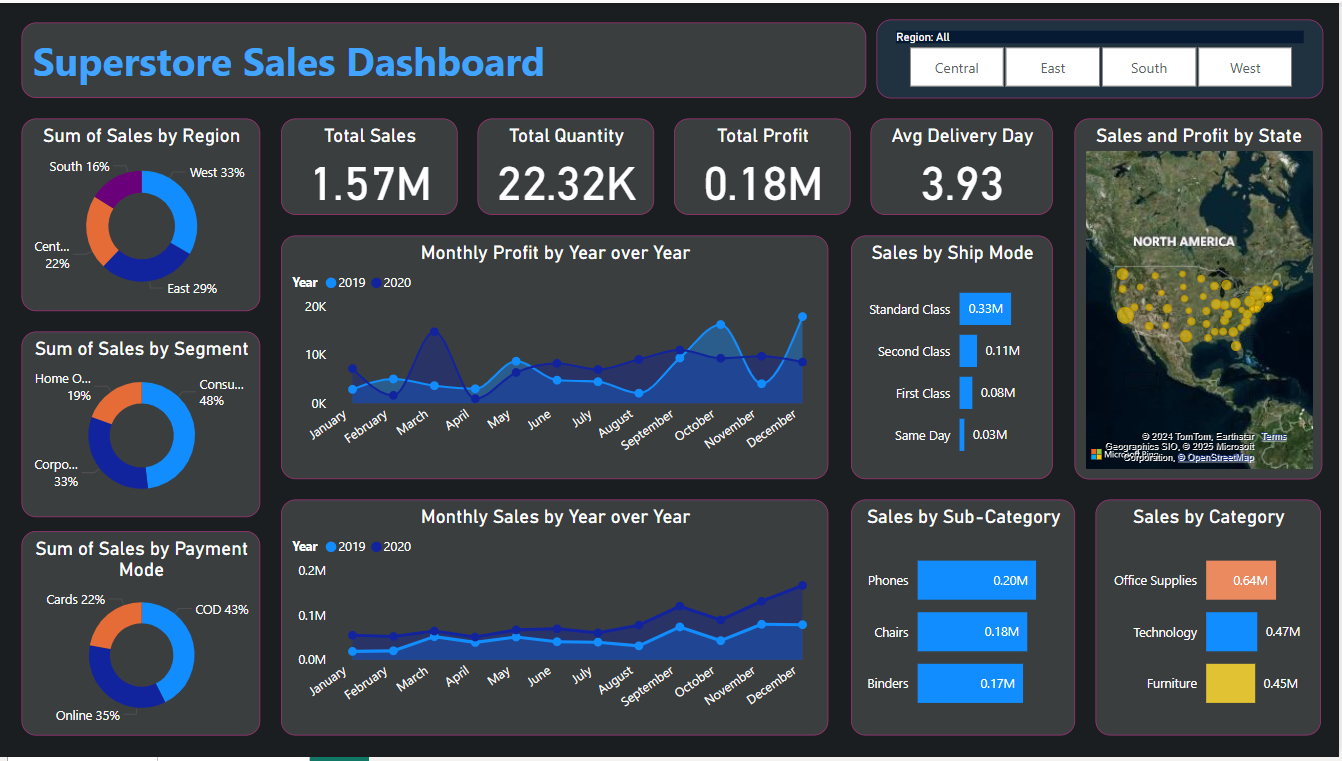

The dashboard page shown, as its layout file describes it:
{"tool":"powerbi","page":{"name":"Dashboard ","canvas":[1280,720],"ordinal":0},"visuals":[{"type":"clusteredBarChart","title":"Sales by Category","fields":{"Category":["Sheet1.Category"],"Y":["Sum(Sheet1.Sales)"]},"box":[1047.4,474.8,215.4,225.4],"z":0},{"type":"clusteredBarChart","title":"Sales by Sub-Category","fields":{"Category":["Sheet1.Sub-Category"],"Y":["Sum(Sheet1.Sales)"]},"box":[813.5,474.8,214,225.4],"z":1000},{"type":"clusteredBarChart","title":"Sales by Ship Mode","fields":{"Category":["Sheet1.Ship Mode"],"Y":["Sum(Sheet1.Sales)"]},"box":[813.5,222.5,192.8,232.4],"z":2000},{"type":"areaChart","title":"Monthly Sales by Year over Year","fields":{"Y":["Sum(Sheet1.Sales)"],"Category":["Sheet1.Order Date.Variation.Date Hierarchy.Month","Sheet1.Order Date.Variation.Date Hierarchy.Day"],"Series":["Sheet1.Order Date.Variation.Date Hierarchy.Year"]},"box":[269.3,474.8,523,225.4],"z":3000},{"type":"areaChart","title":"Monthly Profit by Year over Year","fields":{"Category":["Sheet1.Order Date.Variation.Date Hierarchy.Month","Sheet1.Order Date.Variation.Date Hierarchy.Day"],"Series":["Sheet1.Order Date.Variation.Date Hierarchy.Year"],"Y":["Sum(Sheet1.Profit)"]},"box":[269.3,222.5,523,232.4],"z":4000},{"type":"map","title":"Sales and Profit by State","fields":{"Category":["Sheet1.State"],"Size":["Sum(Sheet1.Sales)"]},"box":[1027.6,110.6,236.7,344.4],"z":5000},{"type":"donutChart","fields":{"Category":["Sheet1.Payment Mode"],"Y":["Sum(Sheet1.Sales)"]},"box":[21.3,504.6,228.2,195.6],"z":6000},{"type":"donutChart","fields":{"Category":["Sheet1.Segment"],"Y":["Sum(Sheet1.Sales)"]},"box":[21.3,313.2,228.2,177.2],"z":7000},{"type":"slicer","fields":{"Values":["Sheet1.Region"]},"box":[837.6,15.6,426.6,75.1],"z":8000},{"type":"textbox","box":[21.3,18.4,806.5,72.3],"z":9000},{"type":"donutChart","fields":{"Y":["Sum(Sheet1.Sales)"],"Category":["Sheet1.Region"]},"box":[21.3,110.6,228.2,184.3],"z":10000},{"type":"card","title":"Total Sales","fields":{"Values":["Sum(Sheet1.Sales)"]},"box":[269.3,110.6,168.7,92.1],"z":11000},{"type":"card","title":"Total Profit","fields":{"Values":["Sum(Sheet1.Profit)"]},"box":[644.9,110.6,168.7,92.1],"z":12000},{"type":"card","title":"Total Quantity ","fields":{"Values":["Sum(Sheet1.Quantity)"]},"box":[456.4,110.6,168.7,92.1],"z":13000},{"type":"card","title":"Avg Delivery Day","fields":{"Values":["Avg(Sheet1.AvgDeliveryDays)"]},"box":[832,110.6,174.3,92.1],"z":14000}]}

Visuals, with their boxes in screenshot pixels (x1, y1, x2, y2), scaled from the page's 1280x720 canvas onto the 1342x761 screenshot:
"Sales by Category" clusteredBarChart: Rect(1098, 502, 1324, 740)
"Sales by Sub-Category" clusteredBarChart: Rect(853, 502, 1077, 740)
"Sales by Ship Mode" clusteredBarChart: Rect(853, 235, 1055, 481)
"Monthly Sales by Year over Year" areaChart: Rect(282, 502, 831, 740)
"Monthly Profit by Year over Year" areaChart: Rect(282, 235, 831, 481)
"Sales and Profit by State" map: Rect(1077, 117, 1326, 481)
donutChart - Sheet1.Payment Mode x Sum(Sheet1.Sales): Rect(22, 533, 262, 740)
donutChart - Sheet1.Segment x Sum(Sheet1.Sales): Rect(22, 331, 262, 518)
slicer - Sheet1.Region: Rect(878, 16, 1325, 96)
textbox: Rect(22, 19, 868, 96)
donutChart - Sum(Sheet1.Sales) x Sheet1.Region: Rect(22, 117, 262, 312)
"Total Sales" card: Rect(282, 117, 459, 214)
"Total Profit" card: Rect(676, 117, 853, 214)
"Total Quantity " card: Rect(479, 117, 655, 214)
"Avg Delivery Day" card: Rect(872, 117, 1055, 214)
